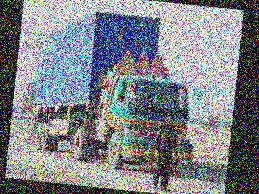truck: (28, 4, 208, 180)
